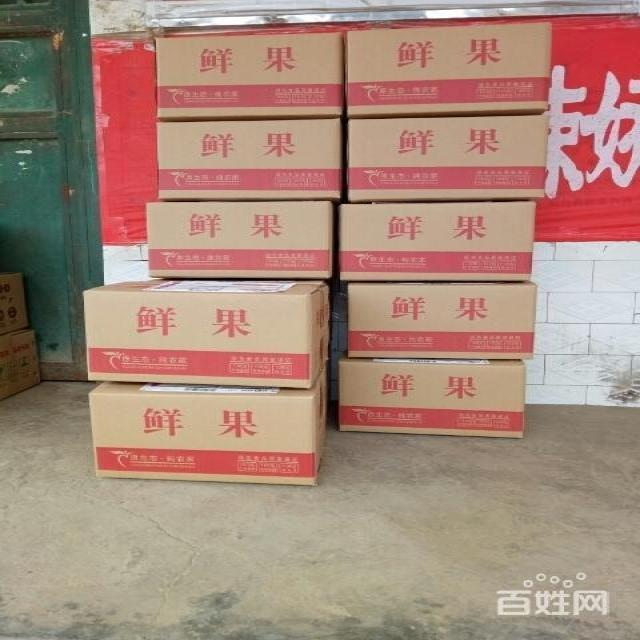box: (90, 356, 331, 485), (86, 282, 334, 382), (346, 23, 550, 116), (341, 114, 548, 198), (152, 30, 345, 118), (338, 201, 534, 281), (339, 355, 527, 436), (153, 119, 345, 198), (146, 200, 337, 277), (346, 282, 534, 357), (2, 327, 41, 400), (0, 272, 28, 334)
